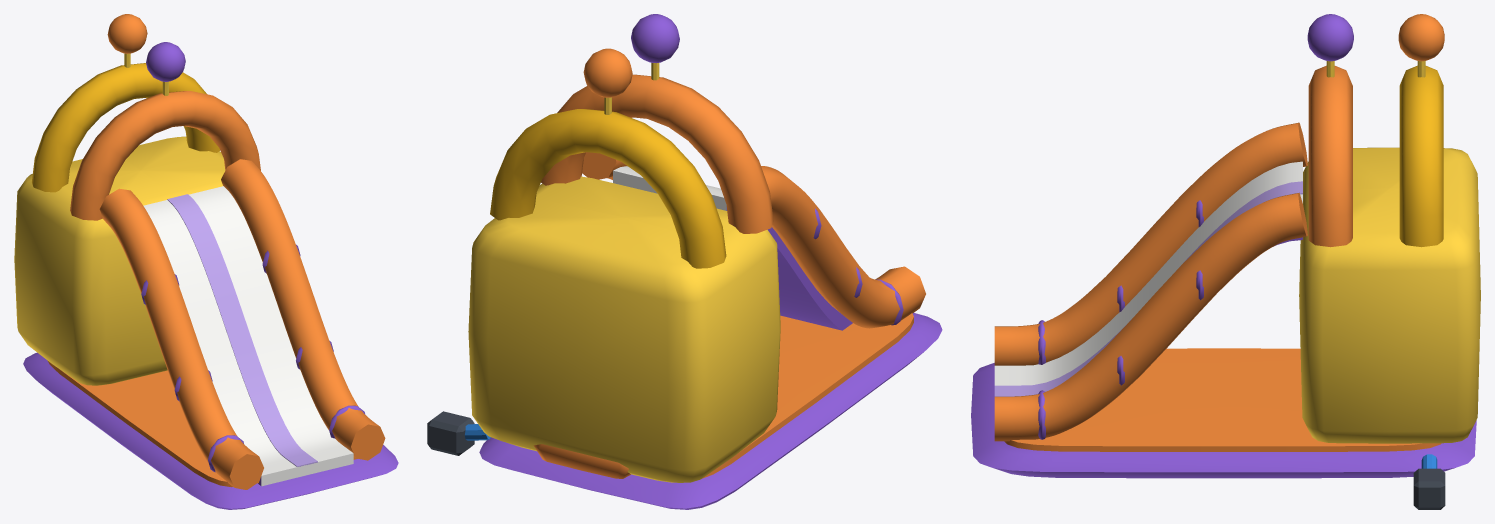
The model's file is escorregador_inflavel.glb.
3 views of the same model, side by side, from view 1: azimuth 30°, elevation 25°; view 2: azimuth 150°, elevation 25°; view 3: azimuth 270°, elevation 25° (orthographic). The views are drawn at different scales.
Visible parts, largest first — view 1: escorregador_inflavel, bola_1, bola_2; view 2: escorregador_inflavel, bola_1, bola_2; view 3: escorregador_inflavel, bola_2, bola_1.
Boxes of the visible parts, x1,y1,x2,y2 form: escorregador_inflavel: (14, 63, 398, 509); bola_1: (146, 42, 185, 95); bola_2: (107, 14, 147, 67); escorregador_inflavel: (427, 74, 942, 509); bola_1: (631, 14, 679, 80); bola_2: (583, 48, 632, 114); escorregador_inflavel: (971, 65, 1480, 509); bola_2: (1398, 14, 1444, 77); bola_1: (1307, 14, 1353, 77).
Bounding box in the file's own units: 4.1 × 5.8 × 6.45.
1 material, 1 textured.
